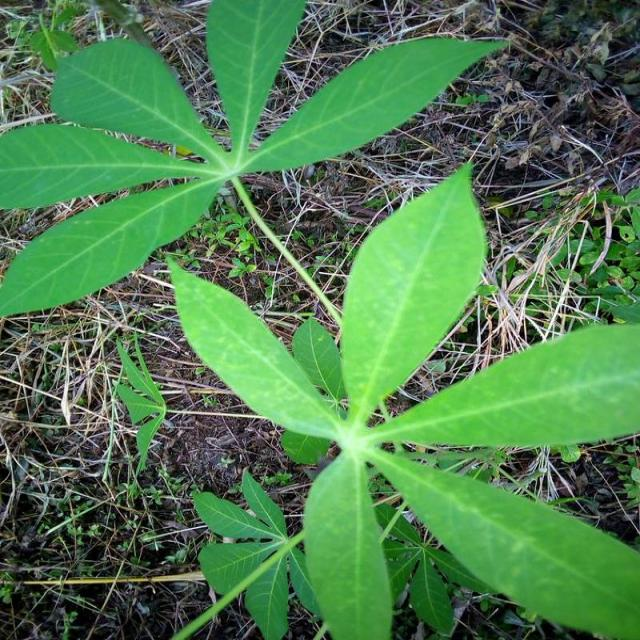cassava leaf: (166, 159, 638, 638), (0, 0, 510, 319), (366, 445, 638, 638), (338, 157, 488, 418), (164, 253, 342, 449), (49, 36, 227, 168)
